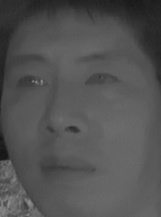eye: (83, 69, 121, 95), (15, 71, 49, 94)
mouth: (35, 149, 96, 186)
